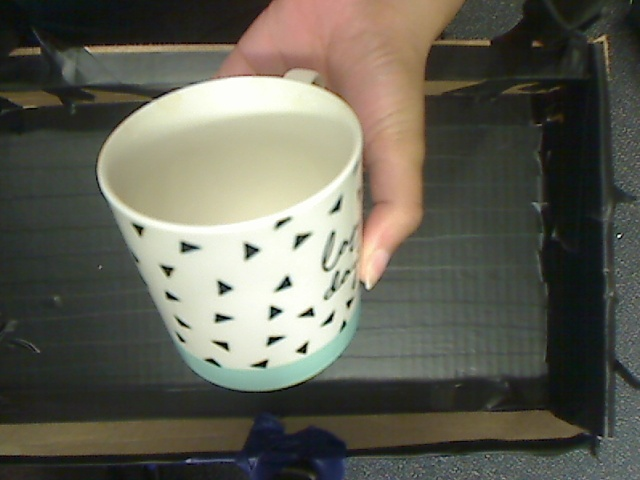mug: (89, 53, 402, 398)
